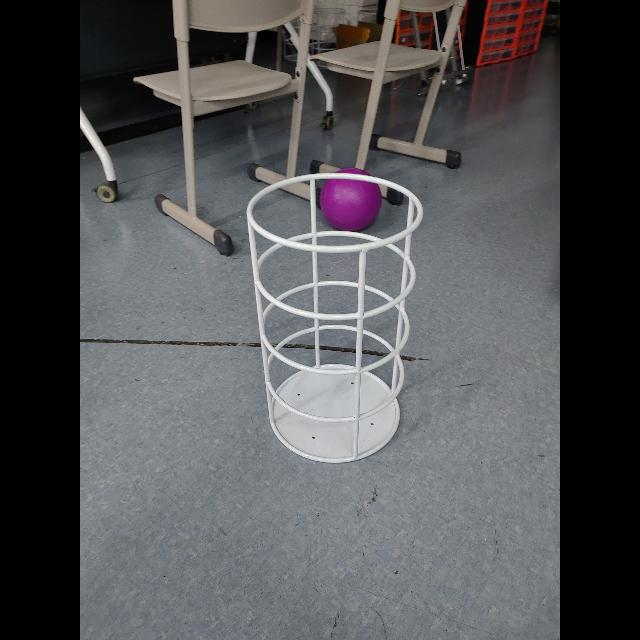S: (244, 170, 426, 468)
